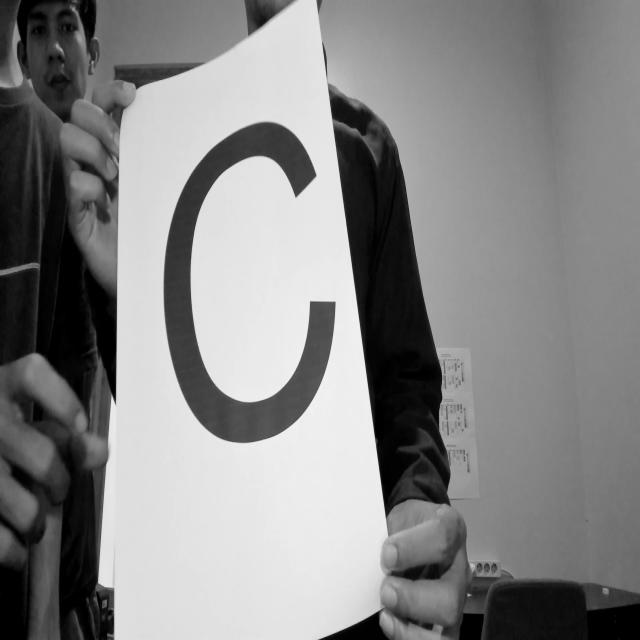c: (142, 120, 359, 467)
